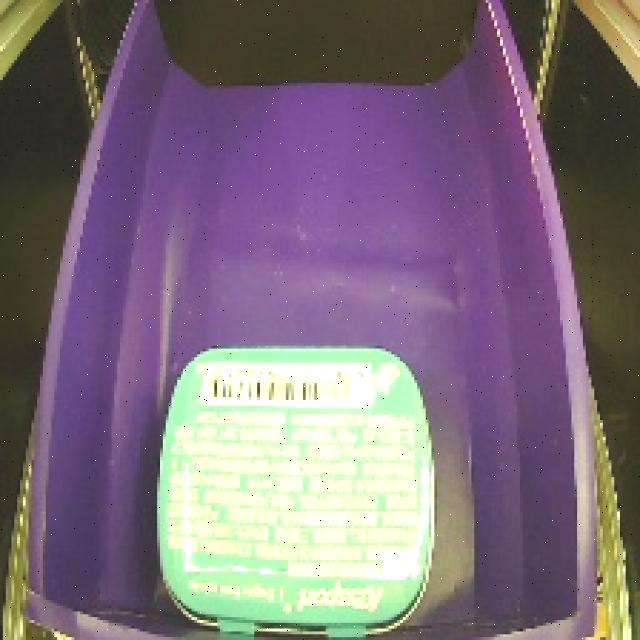metal: (144, 324, 442, 640)
